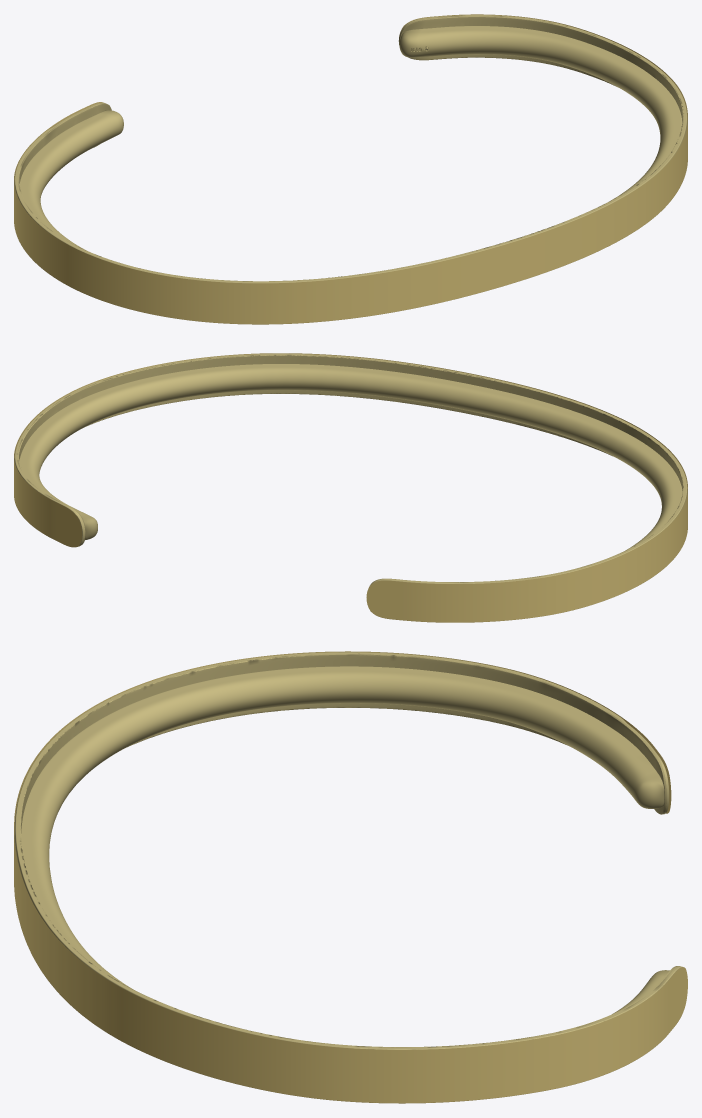
Rendered from EX-bold-gold10.glb.
The picture shows the model from 3 angles, top to bottom: view 1: azimuth 30°, elevation 25°; view 2: azimuth 150°, elevation 25°; view 3: azimuth 270°, elevation 25°; orthographic projection. The views are drawn at different scales.
Visible parts, largest first — view 1: EX-omote.003, EX-body.003; view 2: EX-body.003, EX-omote.003; view 3: EX-body.003, EX-omote.003.
Boxes of the visible parts, x1,y1,x2,y2 form: EX-omote.003: (14,14,687,324); EX-body.003: (14,15,687,283); EX-body.003: (14,353,687,584); EX-omote.003: (14,353,687,622); EX-body.003: (14,652,682,1049); EX-omote.003: (14,651,687,1103).
Bounding box in the file's own units: 3.45 × 0.2162 × 2.47.
Materials: 2 (2 with a texture image).
